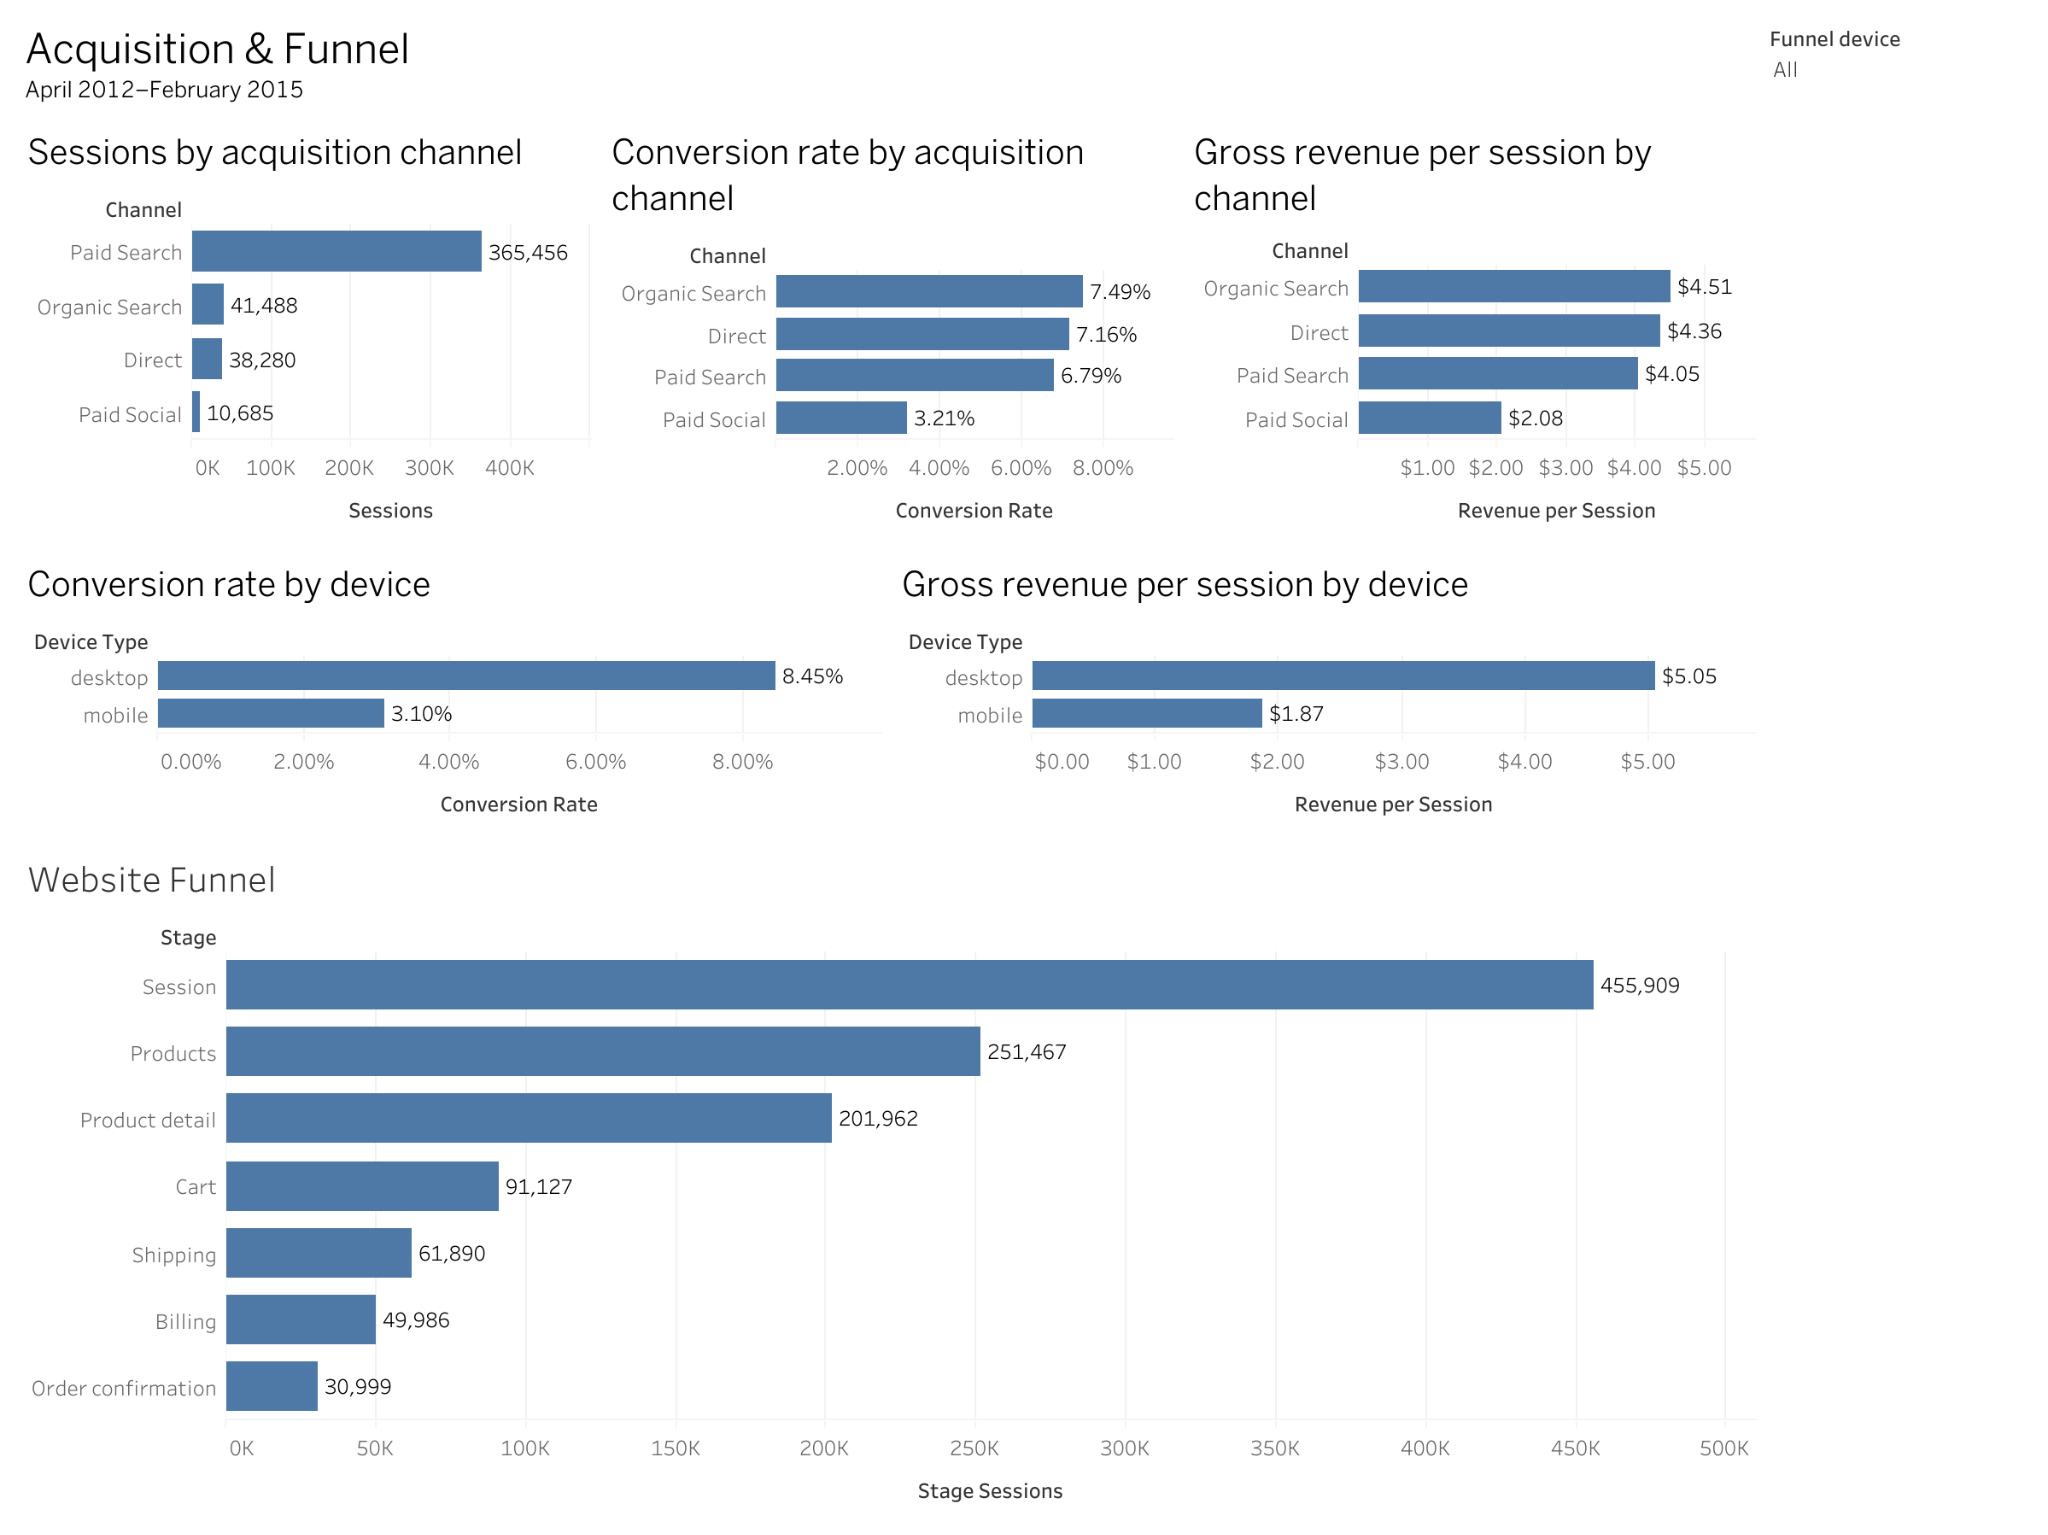

The dashboard page shown, as its layout file describes it:
{"tool":"tableau","page":{"name":"Acquisition & Funnel","canvas":[1200,900],"ordinal":0},"visuals":[{"type":"title","box":[8,8,1024,56]},{"type":"filter","title":"Website Funnel","param":"[federated.0ql99t50bun0b4126uf321rd0hwc].[none:device_type:nk]","box":[1032,8,160,52]},{"type":"worksheet","title":"Sessions by Channel","mark":"Automatic","rows":["channel"],"cols":["sessions"],"box":[8,64,342,254]},{"type":"worksheet","title":"Conversion by Channel","mark":"Automatic","rows":["channel"],"cols":["Calculation_135319146347216896"],"box":[350,64,341,254]},{"type":"worksheet","title":"Revenue per Session by Channel","mark":"Automatic","rows":["channel"],"cols":["Calculation_135319146348158977"],"box":[691,64,341,254]},{"type":"worksheet","title":"Conversion by Device","mark":"Automatic","rows":["device_type"],"cols":["Calculation_135319146347216896"],"box":[8,318,512,172]},{"type":"worksheet","title":"Revenue per Session by Device","mark":"Automatic","rows":["device_type"],"cols":["Calculation_135319146348158977"],"box":[520,318,512,172]},{"type":"worksheet","title":"Website Funnel","mark":"Bar","rows":["stage"],"cols":["stage_sessions"],"box":[8,490,1024,402]}]}

Visuals, with their boxes in screenshot pixels (x1, y1, x2, y2), scaled from the page's 1200x900 canvas onto the 2048x1535 screenshot:
title: select_region(14, 14, 1761, 109)
"Website Funnel" filter: select_region(1761, 14, 2034, 102)
"Sessions by Channel" worksheet: select_region(14, 109, 597, 542)
"Conversion by Channel" worksheet: select_region(597, 109, 1179, 542)
"Revenue per Session by Channel" worksheet: select_region(1179, 109, 1761, 542)
"Conversion by Device" worksheet: select_region(14, 542, 887, 836)
"Revenue per Session by Device" worksheet: select_region(887, 542, 1761, 836)
"Website Funnel" worksheet (Bar marks): select_region(14, 836, 1761, 1521)
